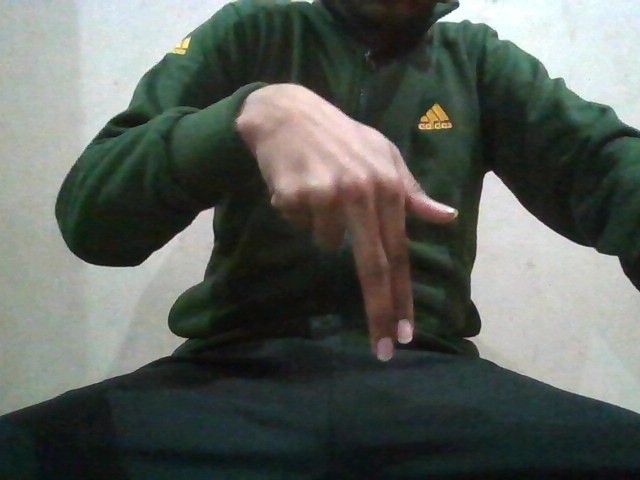Q: (257, 109, 453, 375)
